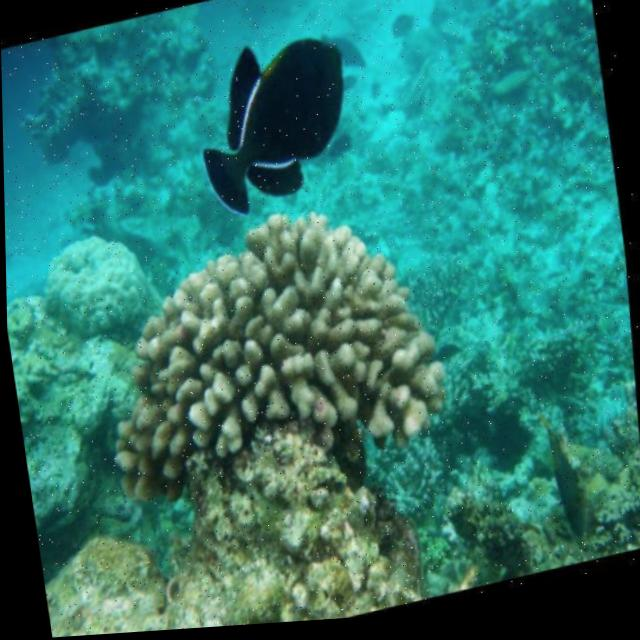Healthy Coral: (82, 158, 517, 636)
